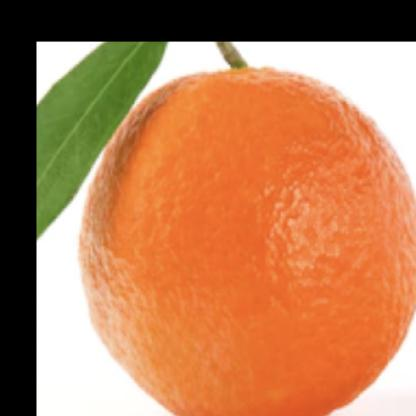fresh: (79, 63, 416, 416)
